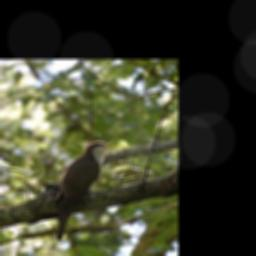Cuckoo: (52, 140, 118, 243)
